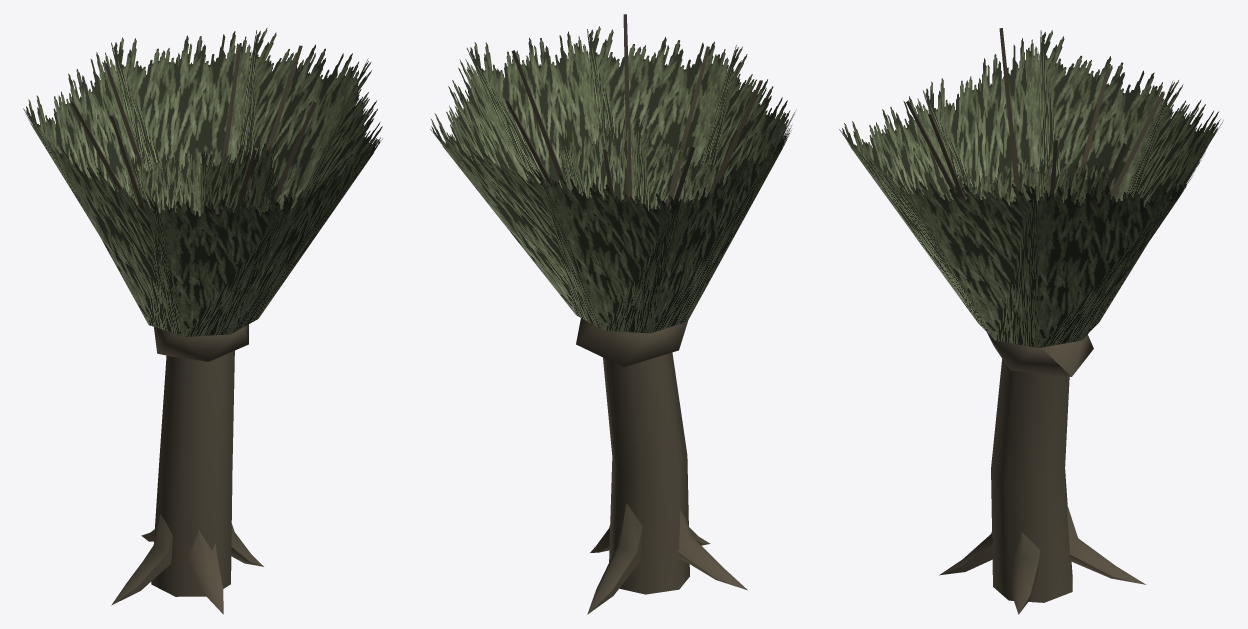
File: Pollard.fbx
3 views of the same model, side by side, from view 1: azimuth 30°, elevation 25°; view 2: azimuth 150°, elevation 25°; view 3: azimuth 270°, elevation 25° (orthographic). The views are drawn at different scales.
Parts seen in each view (by area): view 1: Pollard; view 2: Pollard; view 3: Pollard.
Part boxes in pixels (x1,y1,x2,y2): Pollard: (23,28,382,614); Pollard: (430,14,796,614); Pollard: (839,28,1223,614).
Size of the model in its own units: 2.26 by 3.24 by 2.31.
